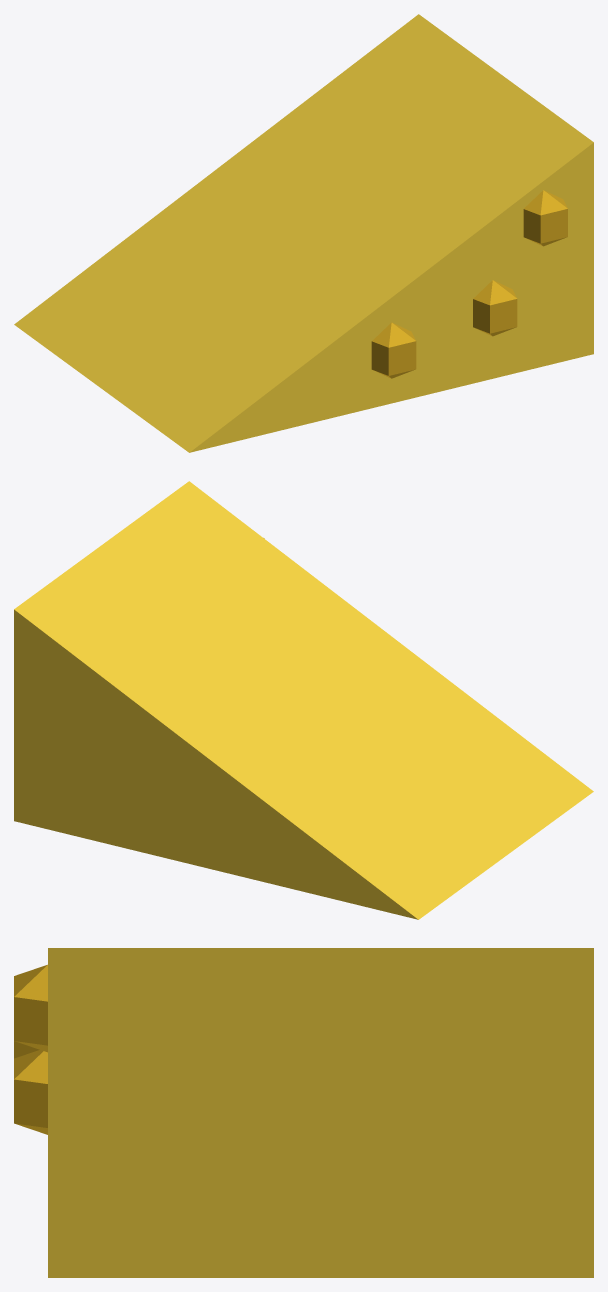
Rendered from cheese.fbx.
3 renders of one model, top to bottom at view 1: azimuth 30°, elevation 25°; view 2: azimuth 150°, elevation 25°; view 3: azimuth 270°, elevation 25°, orthographic. The views are drawn at different scales.
Parts seen in each view (by area): view 1: cheese; view 2: cheese; view 3: cheese.
Part boxes in pixels (x1,y1,x2,y2): cheese: (14, 14, 593, 452); cheese: (14, 481, 593, 919); cheese: (14, 948, 593, 1277).
Size of the model in its own units: 0.48 by 0.24 by 0.3824.
